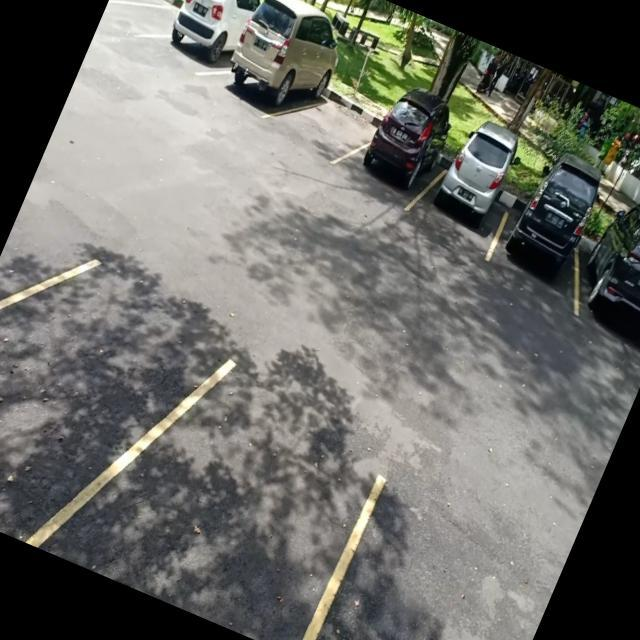empty: (88, 356, 398, 640), (0, 235, 207, 574), (286, 75, 381, 172)
occupied: (210, 5, 345, 136), (485, 168, 607, 295), (341, 100, 453, 214), (416, 139, 525, 251), (563, 204, 640, 347), (154, 0, 254, 84)
